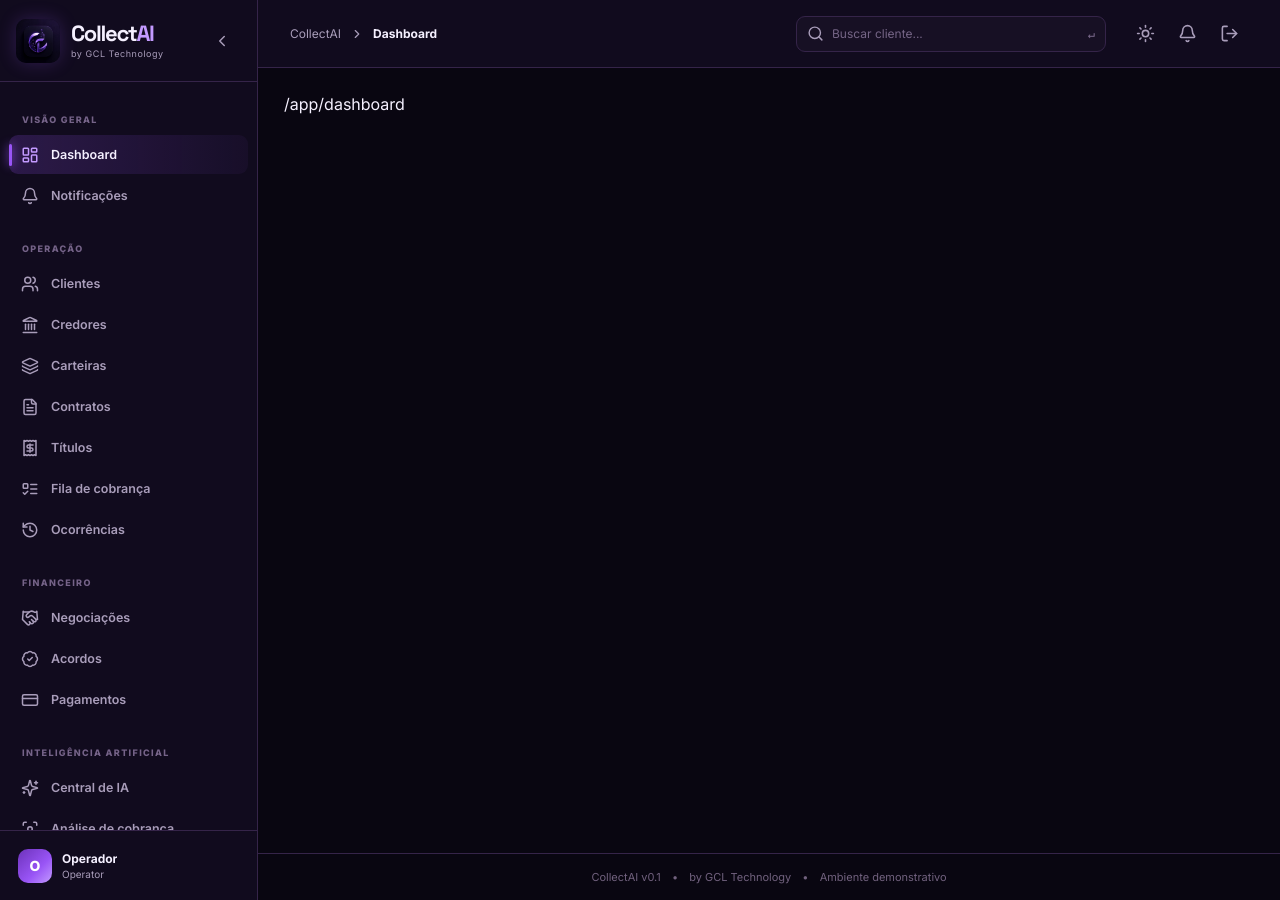
navigation › navigates to customers and hides management links from operators
Click the link "Clientes": {"x": 61, "y": 284} [21, 274, 100, 292]
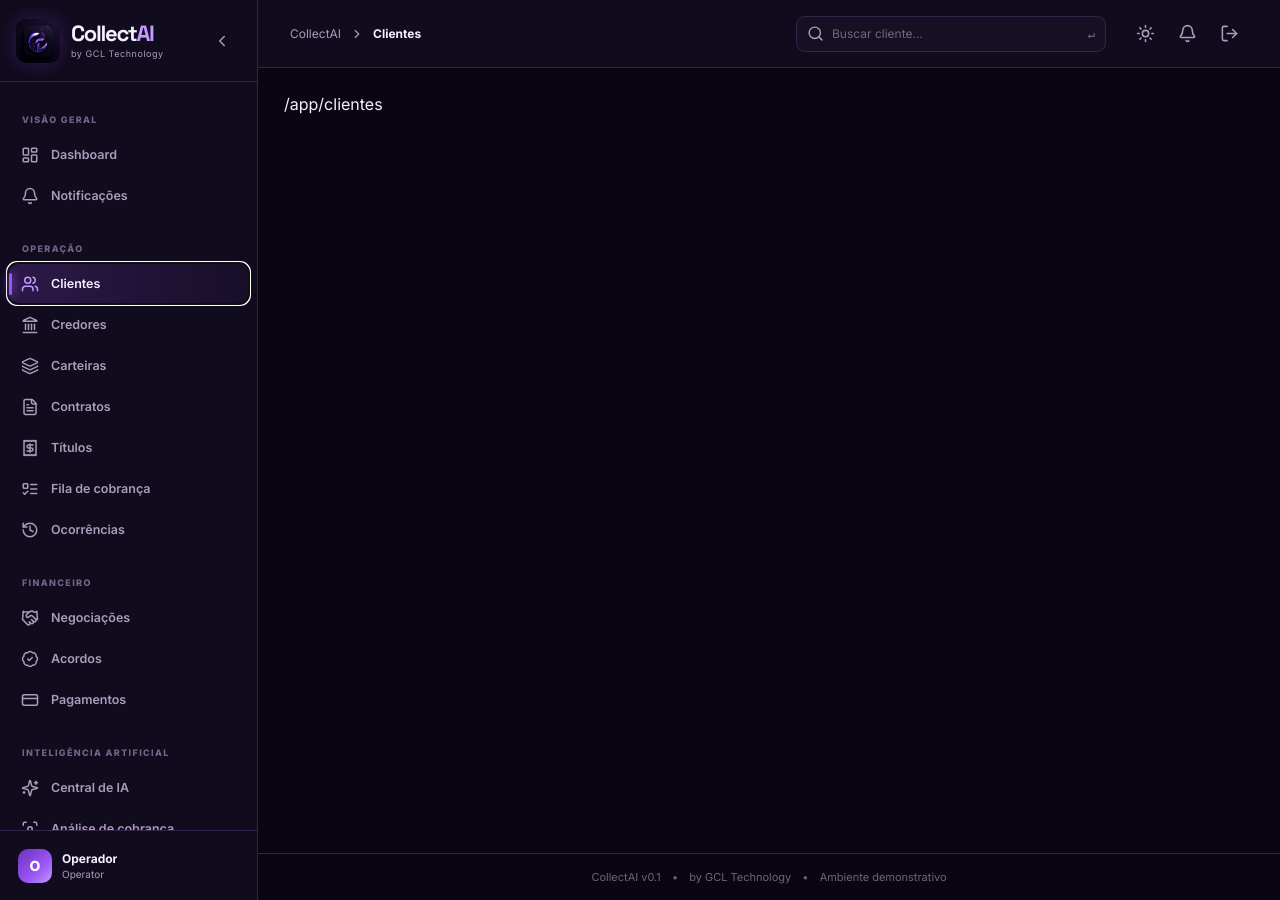
Now the text with test id "location" reads "/app/clientes", box [284, 94, 383, 114]
